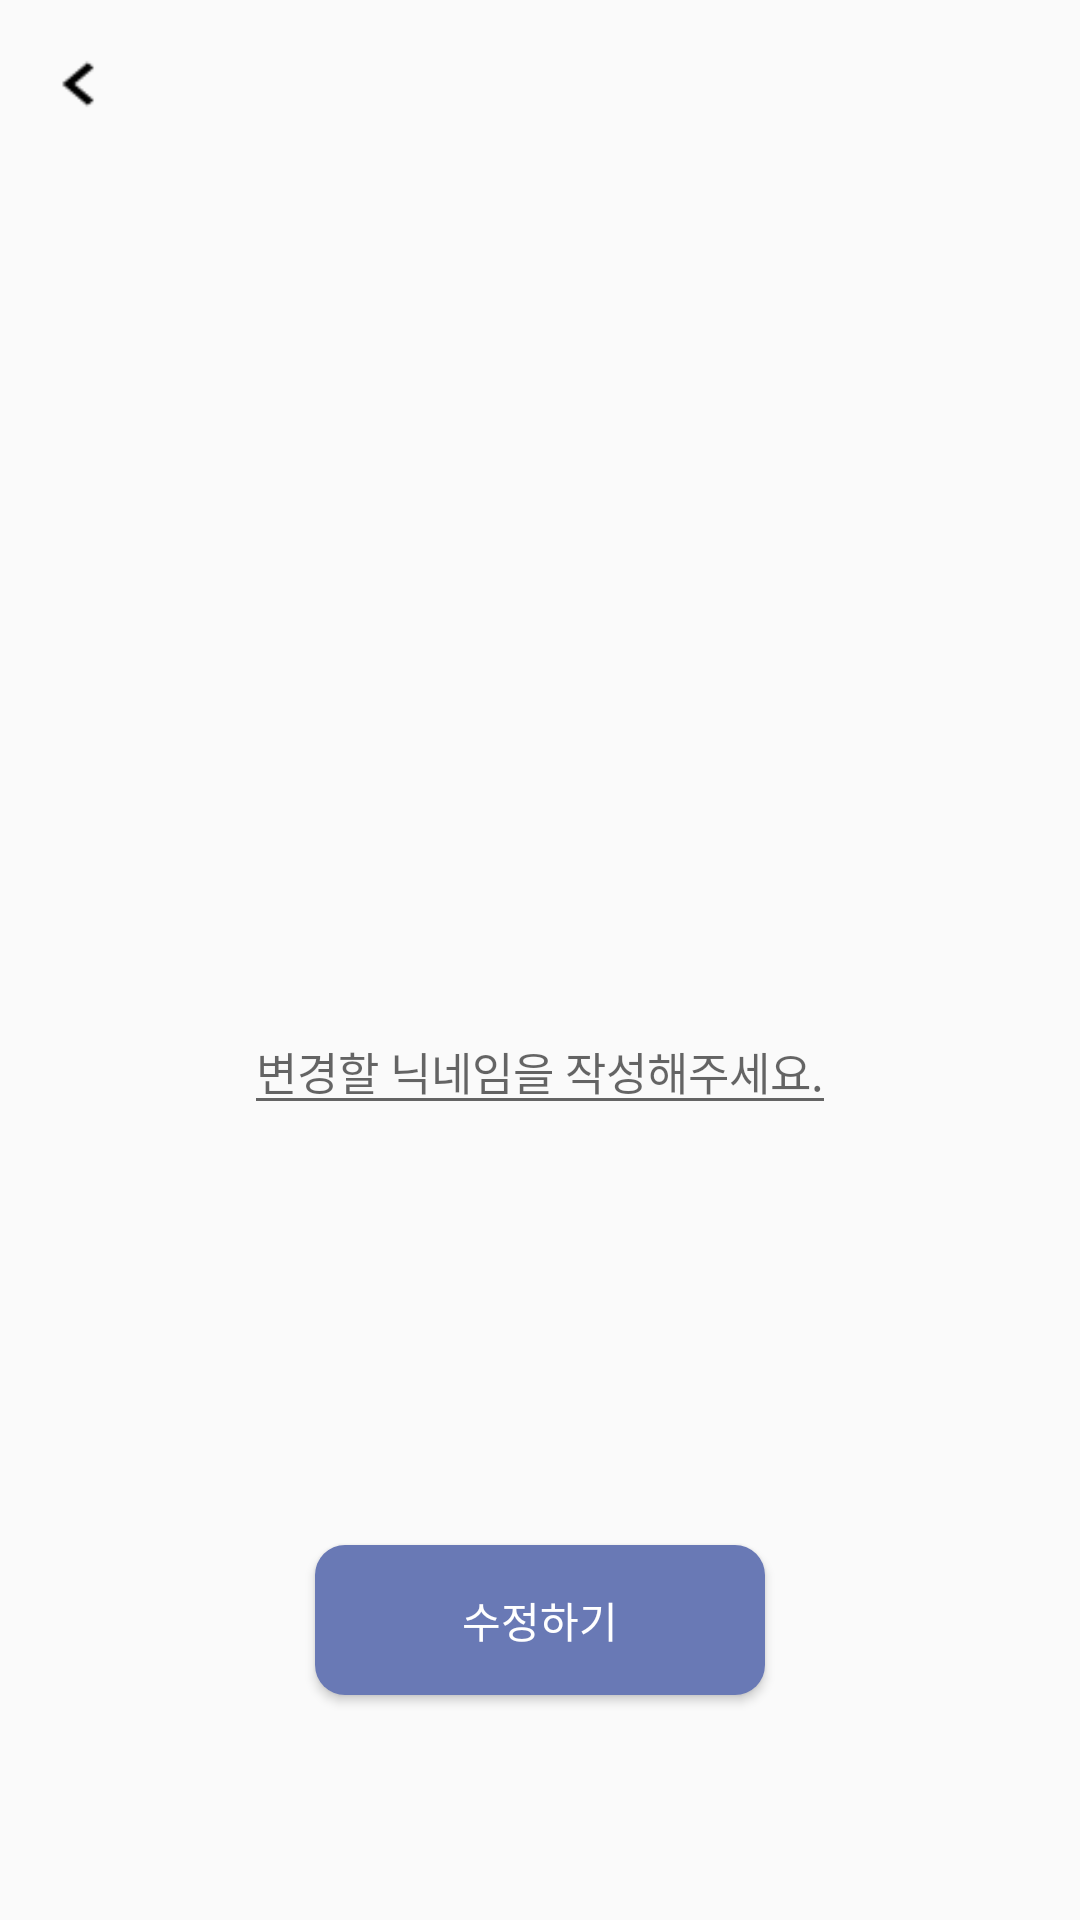

Locate icon controls on the screen. Image size 1080*1920, boxes as bbox=(x1, y1, x2, y2).
back: bbox=(62, 61, 94, 107)
